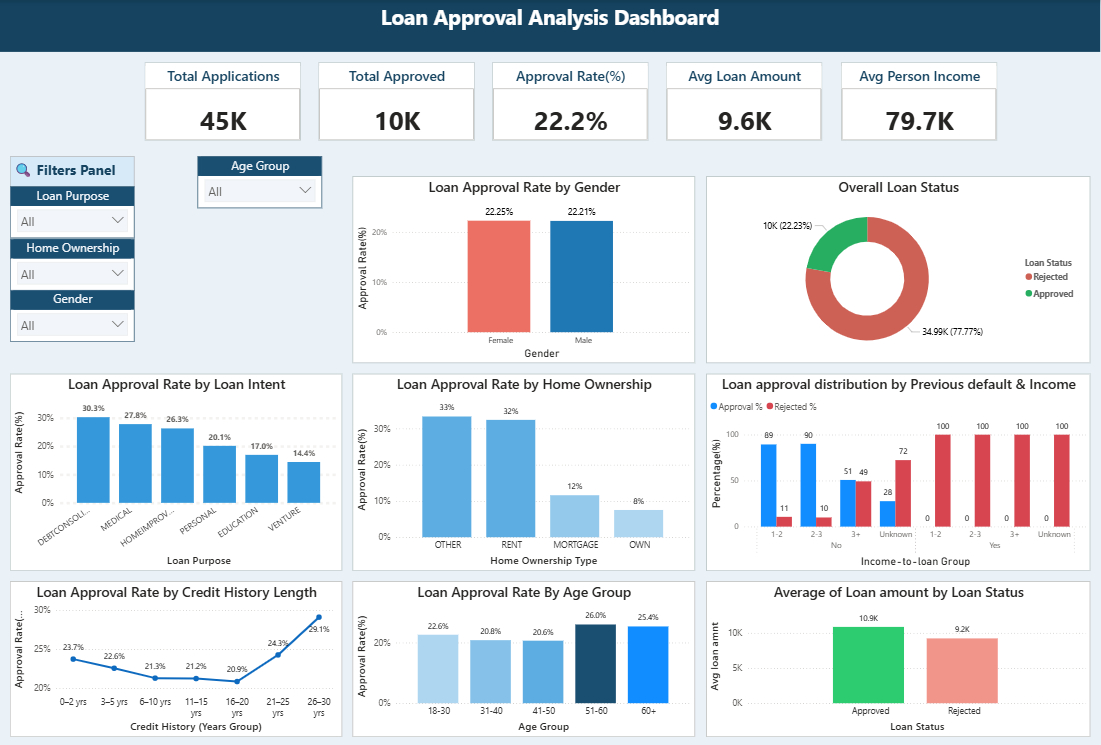

This screenshot's page, from the dashboard's own definition file:
{"tool":"powerbi","page":{"name":"Page 1","canvas":[1700,1150],"ordinal":0},"visuals":[{"type":"cardVisual","title":"Total Applications","fields":{"Data":["CountNonNull(loan_data_cleaned (2).Loan Status)"]},"box":[224,96,240,120],"z":0},{"type":"cardVisual","title":"Total Approved","fields":{"Data":["Sum(loan_data_cleaned (2).Loan Status)"]},"box":[492,96,240,120],"z":1000},{"type":"cardVisual","title":"Approval Rate(%)","fields":{"Data":["loan_data_cleaned (2).Approval Rate (%)"]},"box":[760,96,240,120],"z":2000},{"type":"cardVisual","title":"Avg Loan Amount","fields":{"Data":["Avg(loan_data_cleaned (2).loan_amnt)"]},"box":[1028,96,240,120],"z":3000},{"type":"cardVisual","title":"Avg Person Income","fields":{"Data":["Avg(loan_data_cleaned (2).Person Income)"]},"box":[1296,96,240,120],"z":4000},{"type":"clusteredColumnChart","title":"Loan Approval Rate By Age Group","fields":{"Category":["loan_data_cleaned (2).Age Group"],"Y":["loan_data_cleaned (2).Approval Rate (%)"]},"box":[544,894,528,256],"z":5000},{"type":"columnChart","title":"Loan Approval Rate by Gender","fields":{"Y":["loan_data_cleaned (2).Approval Rate Value"],"Category":["loan_data_cleaned (2).Gender Clean"]},"box":[544,272,528,288],"z":6000},{"type":"clusteredColumnChart","title":"Loan Approval Rate by Home Ownership","fields":{"Y":["loan_data_cleaned (2).Approval Rate (%)"],"Category":["loan_data_cleaned (2).Person Home Ownership"]},"box":[544,576,528,304],"z":7000},{"type":"clusteredColumnChart","title":"Loan Approval Rate by Loan Intent","fields":{"Category":["loan_data_cleaned (2).Loan Intent"],"Y":["loan_data_cleaned (2).Approval Rate (%)"]},"box":[16,576,512,304],"z":8000},{"type":"lineChart","title":"Loan Approval Rate by Credit History Length","fields":{"Y":["loan_data_cleaned (2).Approval Rate (%)"],"Category":["loan_data_cleaned (2).CreditHistory Range"]},"box":[16,894,512,256],"z":9000},{"type":"donutChart","title":"Overall Loan Status","fields":{"Y":["CountNonNull(loan_data_cleaned (2).Loan Status)"],"Category":["loan_data_cleaned (2).Loan_Status_Label"]},"box":[1088,272,592,288],"z":10000},{"type":"clusteredColumnChart","title":"Average of Loan amount by Loan Status","fields":{"Y":["Avg(loan_data_cleaned (2).loan_amnt)"],"Category":["loan_data_cleaned (2).Loan_Status_Label"]},"box":[1088,894,592,256],"z":11000},{"type":"textbox","title":"Loan Approval Dashboard","box":[0,0,1696,80],"z":12000},{"type":"textbox","box":[16,240,192,48],"z":13000},{"type":"slicer","title":"Age Group","fields":{"Values":["loan_data_cleaned (2).Age Group"]},"box":[304,240,192,80],"z":14000},{"type":"slicer","title":"Loan Purpose","fields":{"Values":["loan_data_cleaned (2).Loan Intent"]},"box":[16,288,192,80],"z":15000},{"type":"slicer","title":"Home Ownership","fields":{"Values":["loan_data_cleaned (2).Person Home Ownership"]},"box":[16,368,192,80],"z":16000},{"type":"slicer","title":"Gender","fields":{"Values":["loan_data_cleaned (2).Person Gender"]},"box":[16,448,192,80],"z":17000},{"type":"clusteredColumnChart","title":"Loan approval distribution by Previous default & Income","fields":{"Category":["new_bank_data.previous_loan_defaults_on_file","new_bank_data.income_to_loan_group"],"Y":["new_bank_data.Approval Rate","new_bank_data.Rejected %"]},"box":[1088,576,592,304],"z":18000}]}

Visuals, with their boxes in screenshot pixels (x1, y1, x2, y2), scaled from the page's 1700x1150 canvas onto the 1101x745 screenshot:
"Total Applications" cardVisual: (x1=145, y1=62, x2=301, y2=140)
"Total Approved" cardVisual: (x1=319, y1=62, x2=474, y2=140)
"Approval Rate(%)" cardVisual: (x1=492, y1=62, x2=648, y2=140)
"Avg Loan Amount" cardVisual: (x1=666, y1=62, x2=821, y2=140)
"Avg Person Income" cardVisual: (x1=839, y1=62, x2=995, y2=140)
"Loan Approval Rate By Age Group" clusteredColumnChart: (x1=352, y1=579, x2=694, y2=744)
"Loan Approval Rate by Gender" columnChart: (x1=352, y1=176, x2=694, y2=363)
"Loan Approval Rate by Home Ownership" clusteredColumnChart: (x1=352, y1=373, x2=694, y2=570)
"Loan Approval Rate by Loan Intent" clusteredColumnChart: (x1=10, y1=373, x2=342, y2=570)
"Loan Approval Rate by Credit History Length" lineChart: (x1=10, y1=579, x2=342, y2=744)
"Overall Loan Status" donutChart: (x1=705, y1=176, x2=1088, y2=363)
"Average of Loan amount by Loan Status" clusteredColumnChart: (x1=705, y1=579, x2=1088, y2=744)
"Loan Approval Dashboard" textbox: (x1=0, y1=0, x2=1098, y2=52)
textbox: (x1=10, y1=155, x2=135, y2=187)
"Age Group" slicer: (x1=197, y1=155, x2=321, y2=207)
"Loan Purpose" slicer: (x1=10, y1=187, x2=135, y2=238)
"Home Ownership" slicer: (x1=10, y1=238, x2=135, y2=290)
"Gender" slicer: (x1=10, y1=290, x2=135, y2=342)
"Loan approval distribution by Previous default & Income" clusteredColumnChart: (x1=705, y1=373, x2=1088, y2=570)
